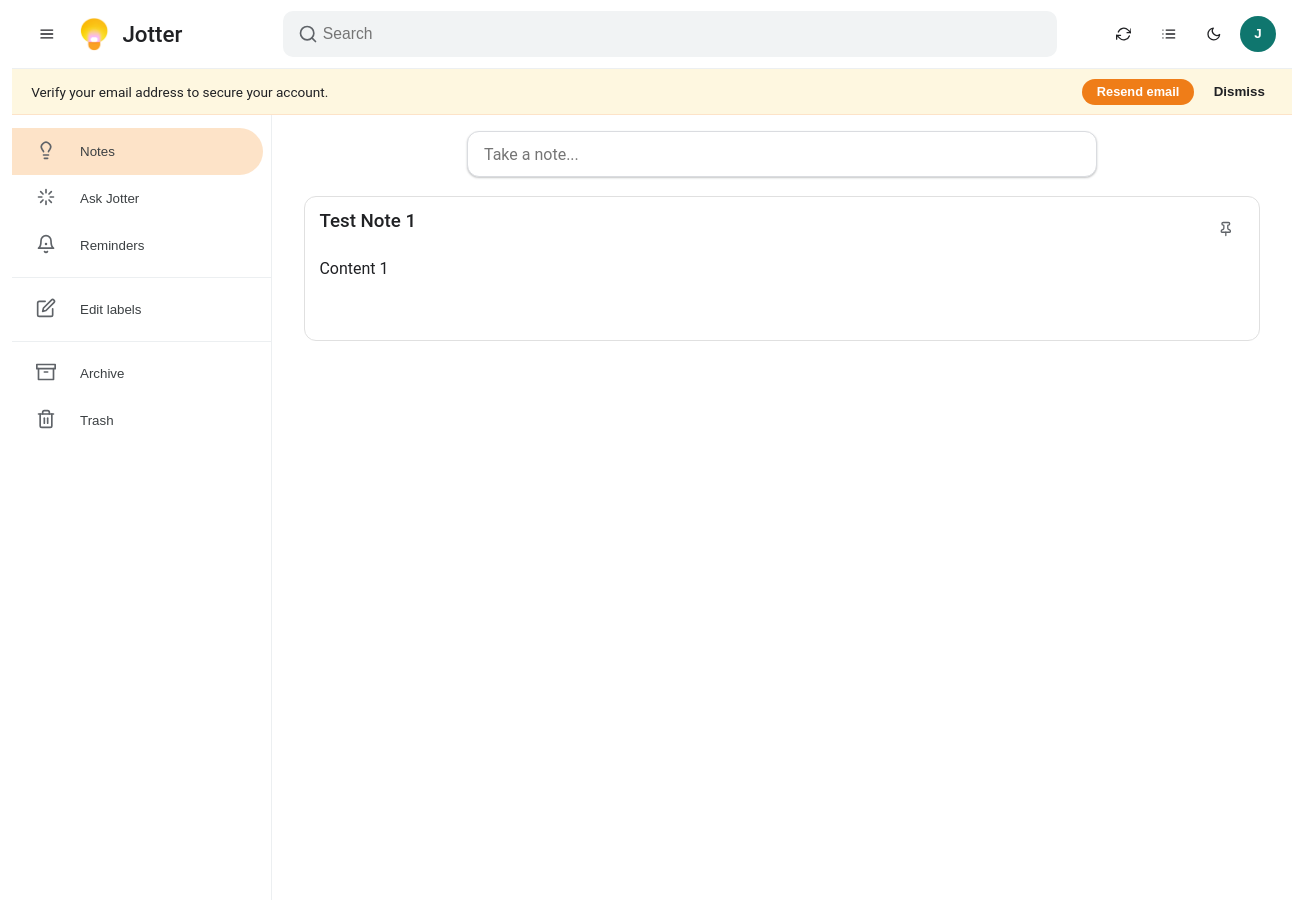
Test case: DashboardPage — composer, editing, chat, and misc › dismisses the verification banner
This screenshot has width=1292, height=900.
Expected: the text "Verify your email address to secure your account." is shown, top-left (31, 84), bottom-right (328, 100)
Click the button "Dismiss" at point(1239, 92), box top-left (1206, 79), bottom-right (1273, 105)
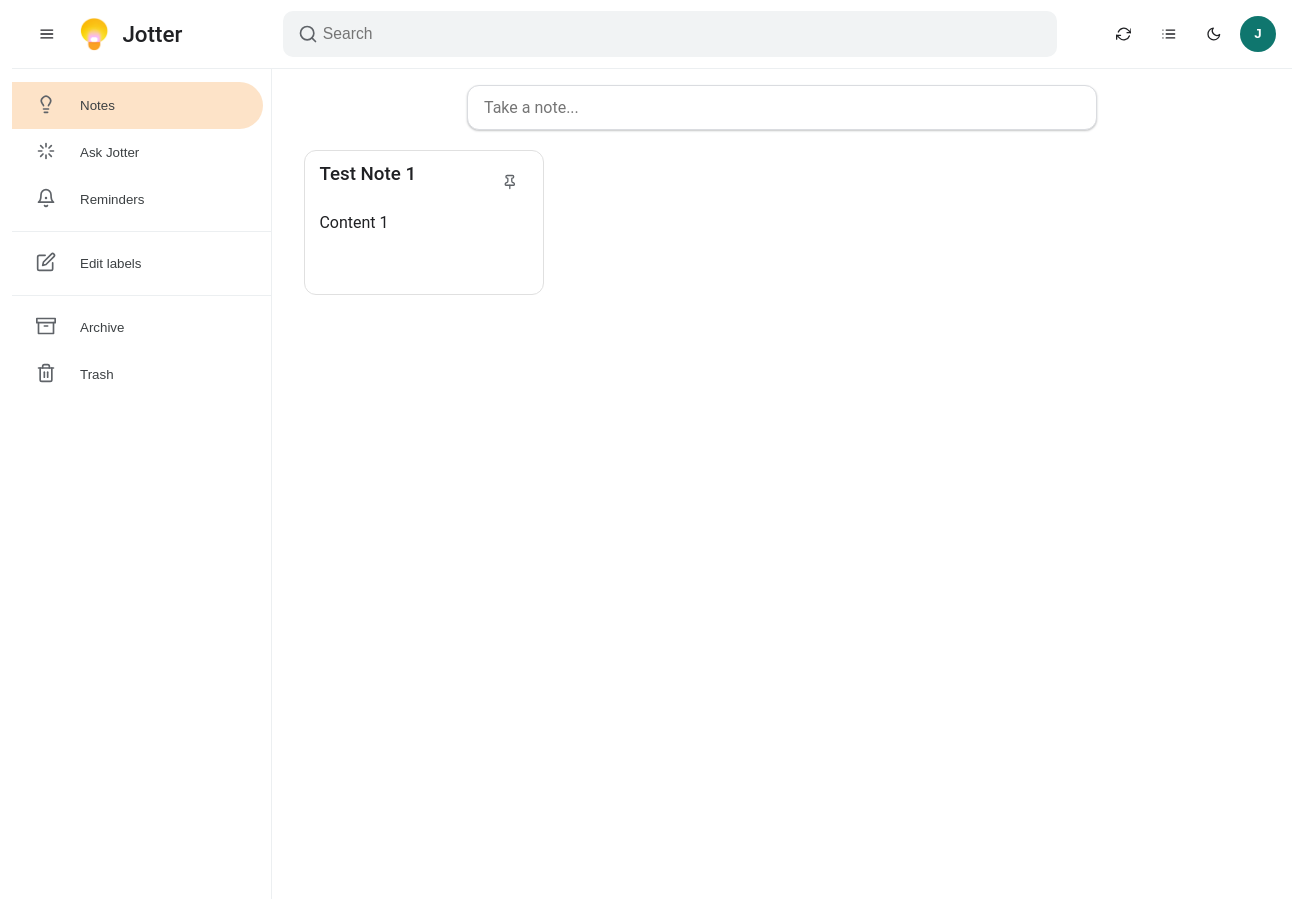
Expected: the text "Verify your email address" is gone
